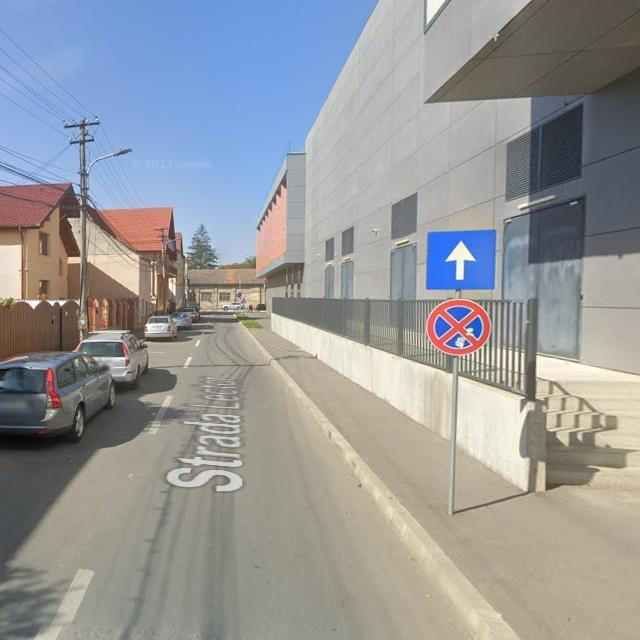forb_waiting: (426, 301, 491, 354)
